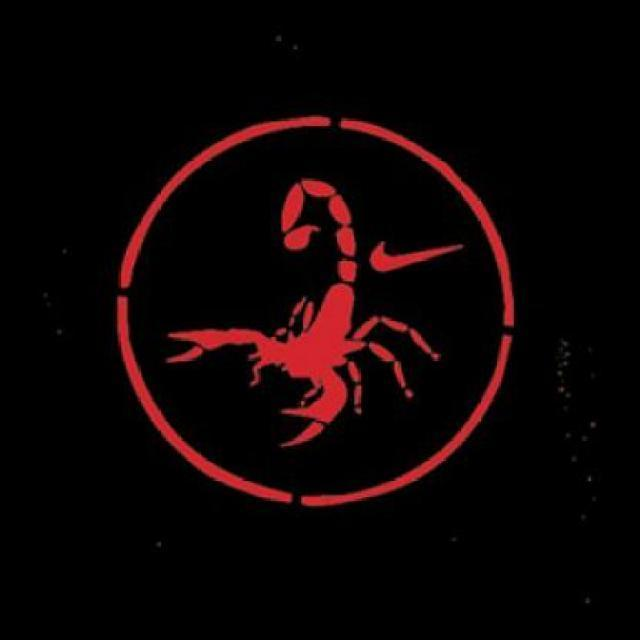Nike: (363, 231, 462, 267)
